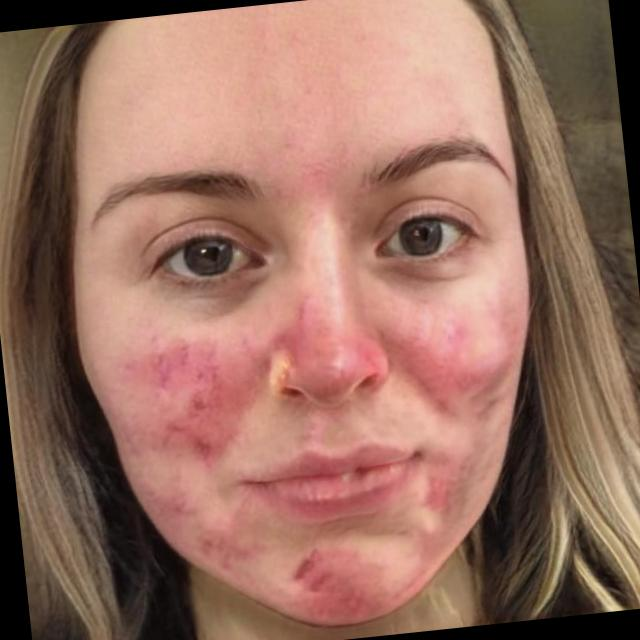redness: (119, 336, 277, 468), (264, 291, 396, 406), (394, 305, 515, 417), (287, 545, 430, 621), (194, 505, 278, 572), (278, 159, 352, 222), (147, 482, 205, 526), (415, 474, 461, 516)
